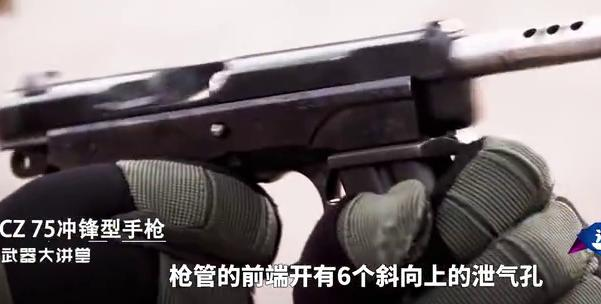gun: (1, 0, 601, 304)
